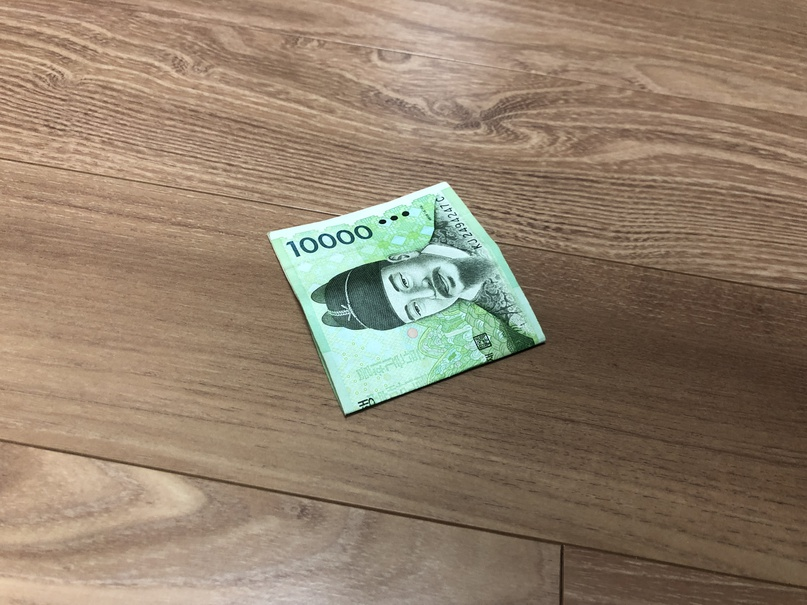10000won: (267, 183, 547, 416)
